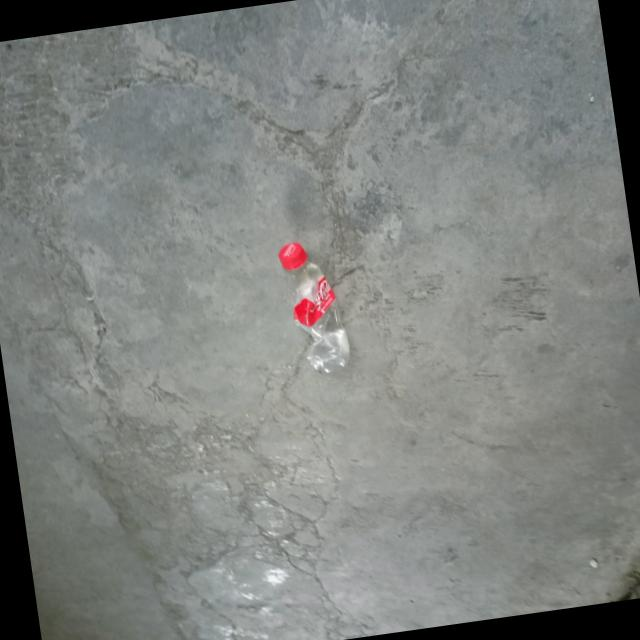Bottle: (279, 242, 350, 372)
